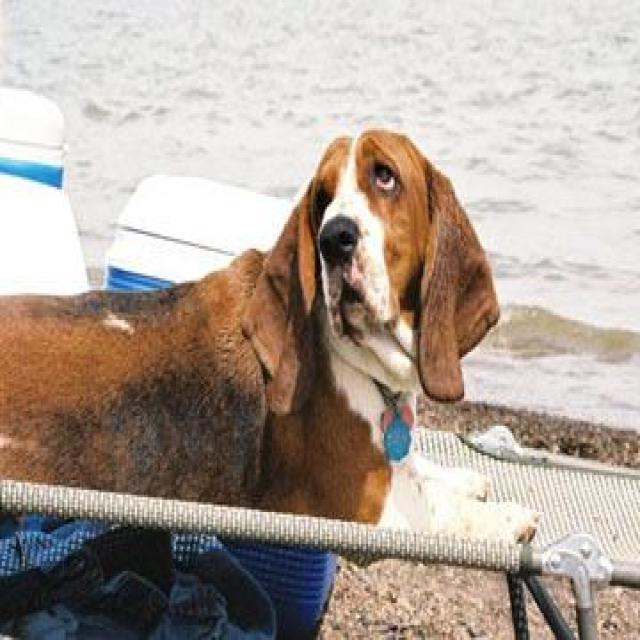basset: (2, 130, 501, 522)
